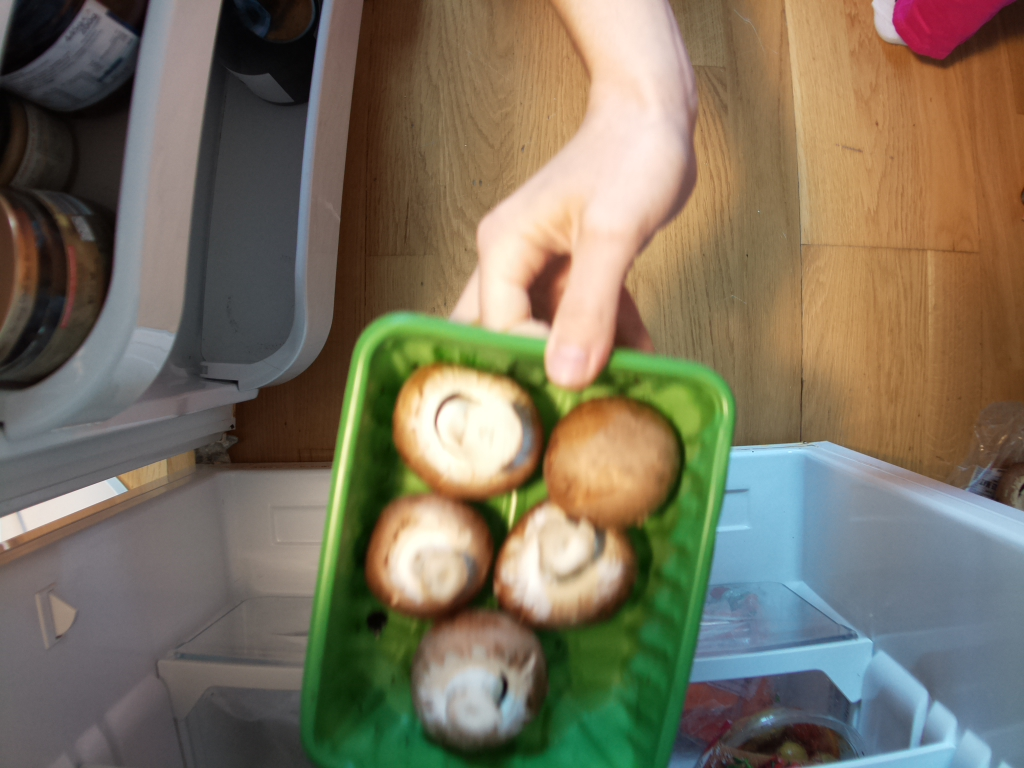mushrooms: (304, 309, 739, 768)
